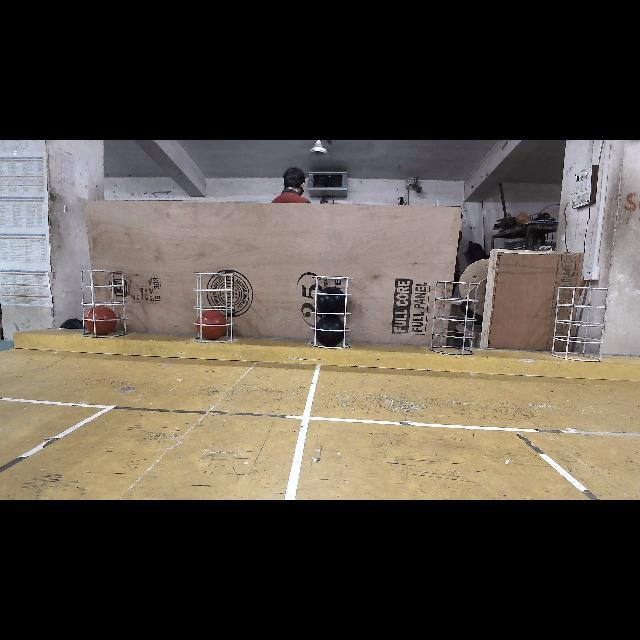P: (314, 317, 346, 347), (314, 288, 348, 316)
R: (196, 310, 228, 342), (84, 306, 116, 336)
S: (551, 281, 611, 365), (431, 279, 481, 357), (80, 268, 130, 342), (192, 270, 240, 346), (311, 274, 354, 352)
